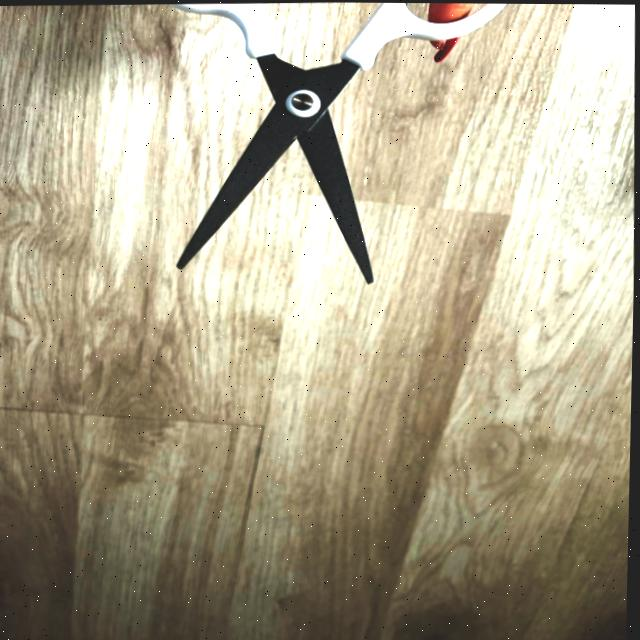Scissors: (177, 2, 507, 284)
